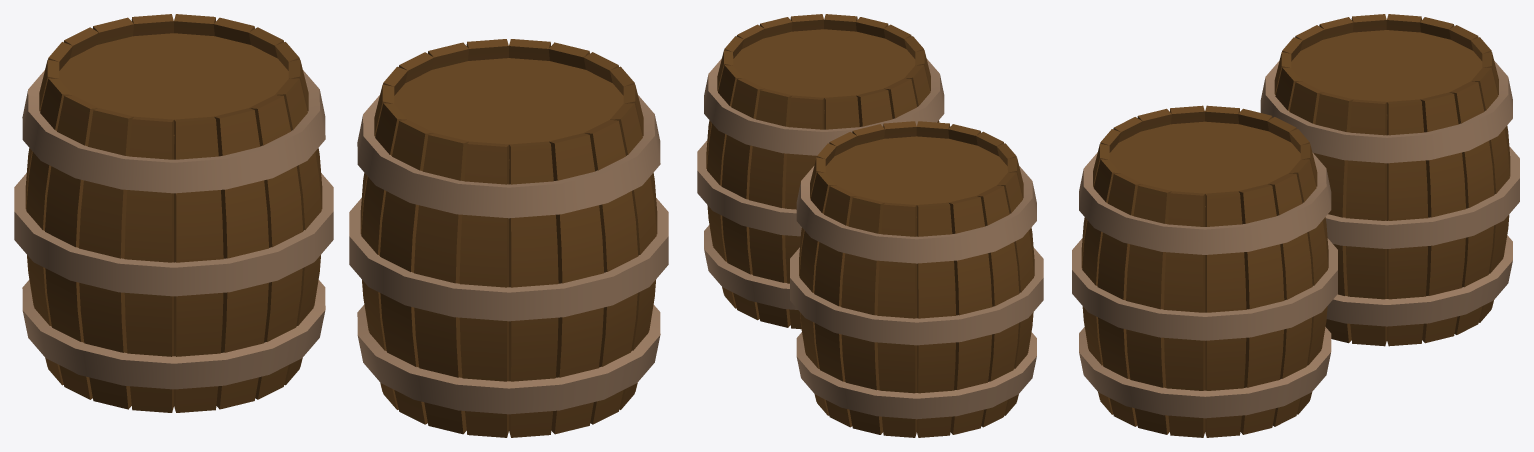
File: barrel_wood.fbx
The picture shows the model from 3 angles, left to right: view 1: azimuth 30°, elevation 25°; view 2: azimuth 150°, elevation 25°; view 3: azimuth 270°, elevation 25°; orthographic projection. The views are drawn at different scales.
Parts seen in each view (by area): view 1: barrel wood.002; view 2: barrel wood.002; view 3: barrel wood.002.
Part boxes in pixels (box(x1,y1,x2,y2)): barrel wood.002: box(14, 14, 668, 437); barrel wood.002: box(697, 14, 1043, 437); barrel wood.002: box(1072, 14, 1519, 437).
Size of the model in its own units: 2.84 by 1.56 by 2.61.
